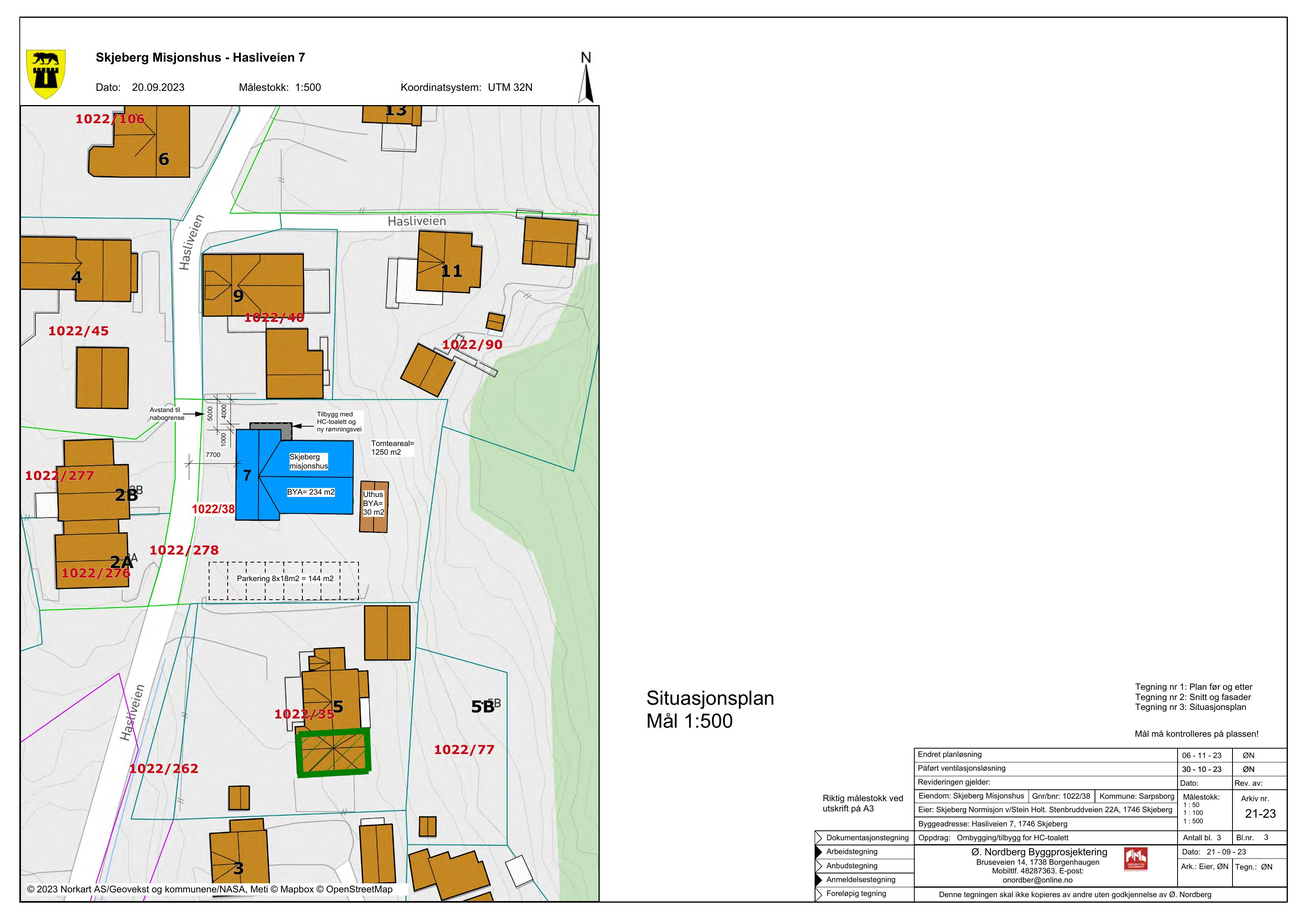situasjonskart: (21, 105, 599, 901)
